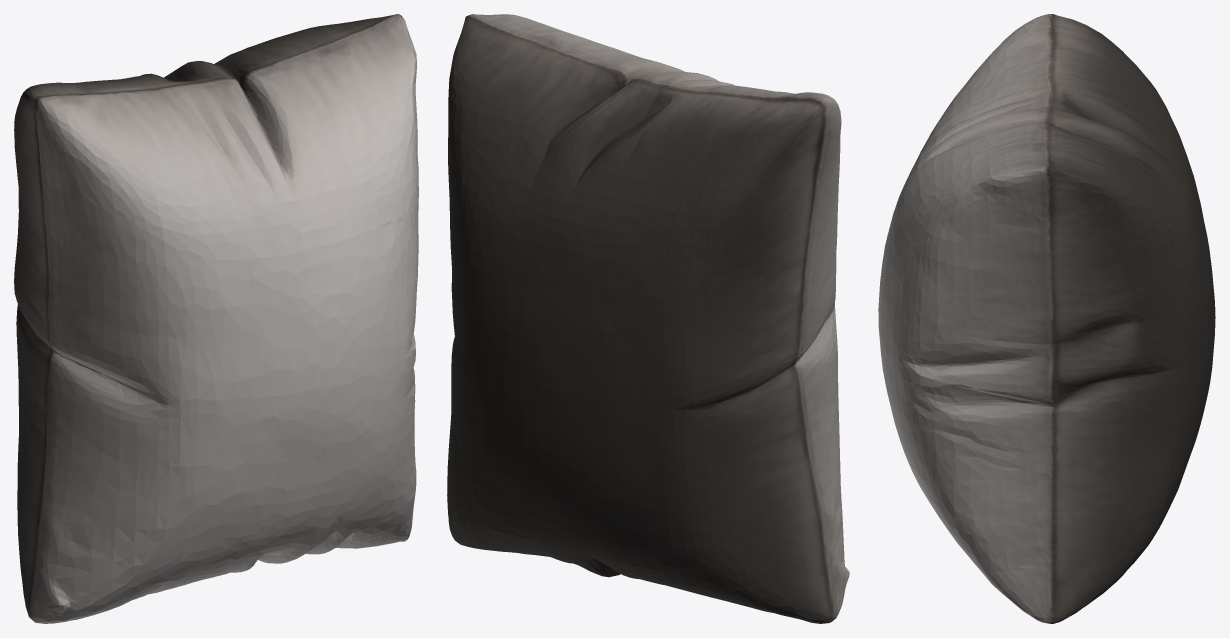
Rendered from 015_pillow-003_local_pivot.glb.
3 views of the same model, side by side, from view 1: azimuth 30°, elevation 25°; view 2: azimuth 150°, elevation 25°; view 3: azimuth 270°, elevation 25° (orthographic). The views are drawn at different scales.
Parts seen in each view (by area): view 1: world; view 2: world; view 3: world.
Part boxes in pixels (x1=…): world: x1=14, y1=14, x2=418, y2=623; world: x1=447, y1=14, x2=849, y2=623; world: x1=878, y1=14, x2=1215, y2=623.
Size of the model in its own units: 0.1004 by 0.1355 by 0.0903.
1 material, 1 textured.
